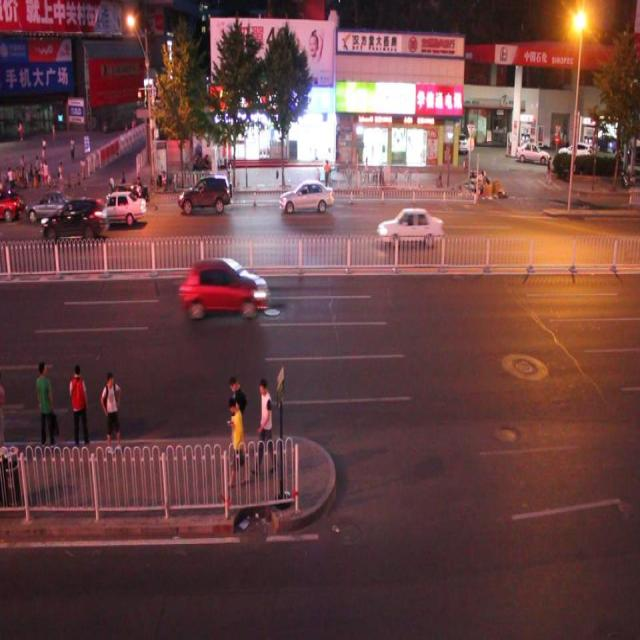car: (178, 253, 270, 319), (40, 194, 110, 240), (175, 172, 237, 217), (377, 206, 444, 247), (278, 175, 335, 220), (25, 186, 81, 226), (92, 189, 146, 226), (101, 180, 145, 223)
